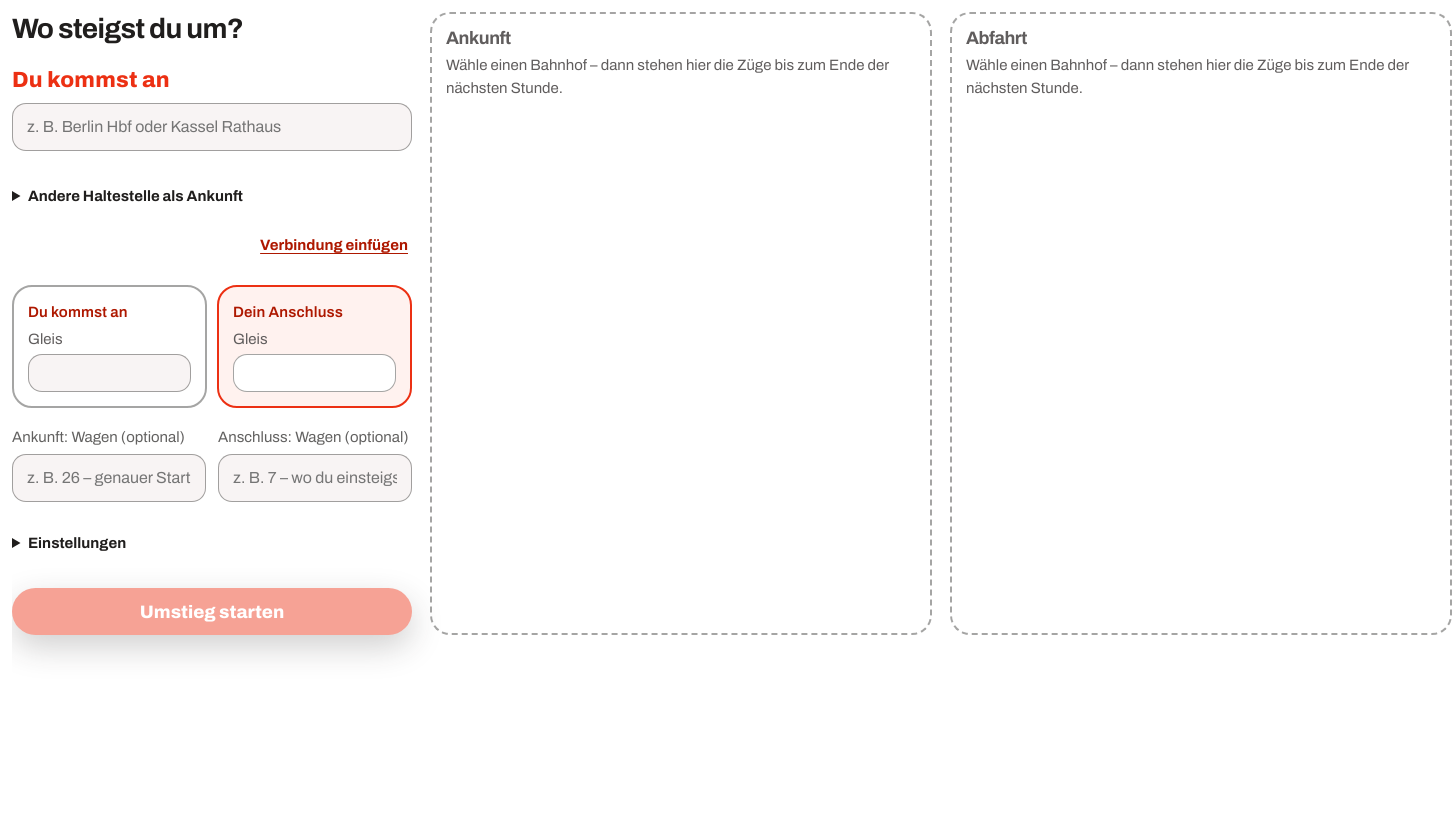
Test: Eingabe: breites Layout › oeffnet beide Tafeln, sobald ein Bahnhof gewaehlt ist
In the field named "Ankunft: Bahnhof oder Haltestelle": (212, 127) [12,103,412,151], type "Ber"
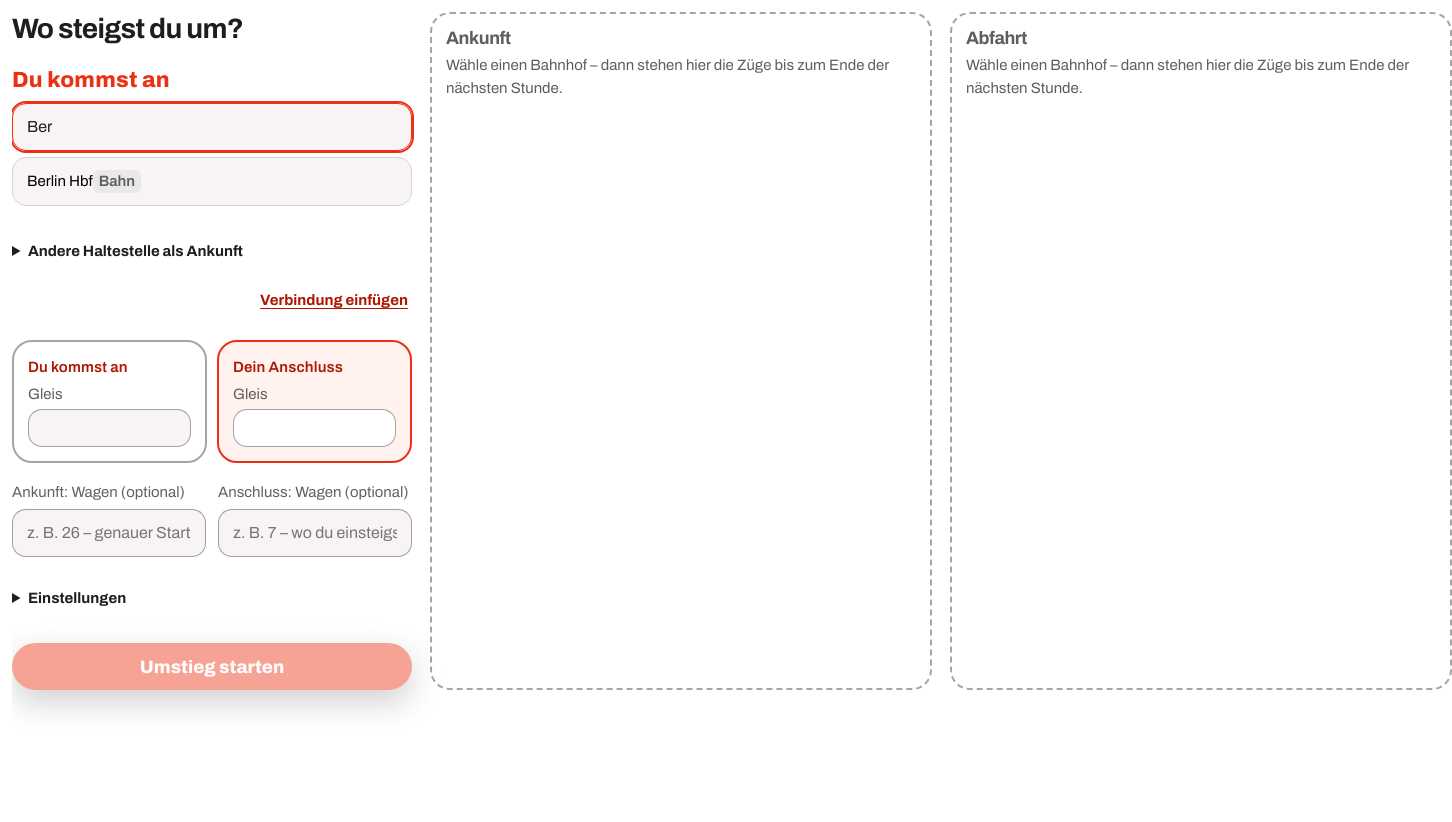
Click the button "Berlin Hbf Bahn": (60, 181) [13,158,411,205]
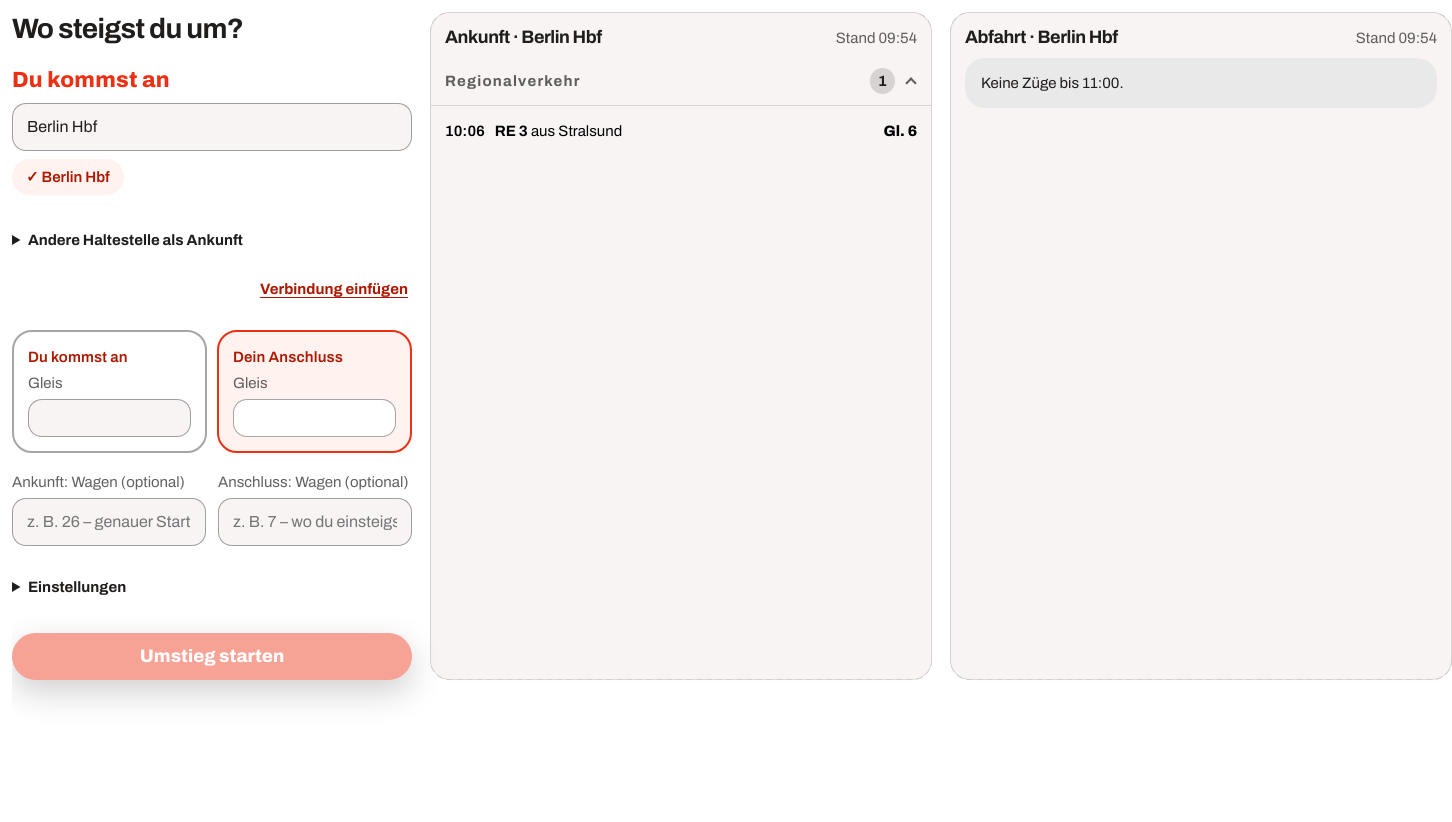
Result: the heading "Ankunft · Berlin Hbf" is shown at [445,27,602,47]
Result: the heading "Abfahrt · Berlin Hbf" is shown at [965,27,1118,47]
